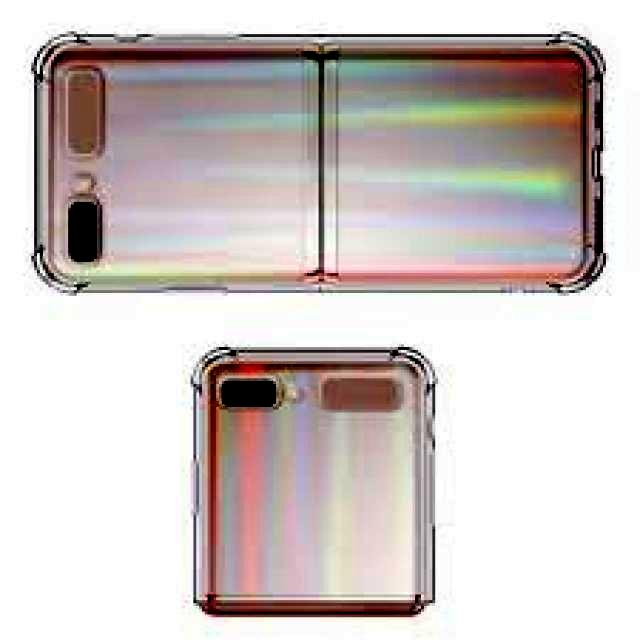lens_back: (68, 234, 103, 264), (222, 381, 246, 410), (252, 381, 276, 406), (72, 205, 96, 229)
phone: (29, 27, 606, 298), (179, 340, 444, 620)
